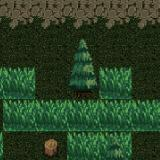Obstacle: (67, 67, 98, 99), (35, 131, 66, 160)
Slow: (3, 100, 160, 131), (67, 130, 132, 160), (0, 67, 35, 99), (99, 68, 133, 100)
